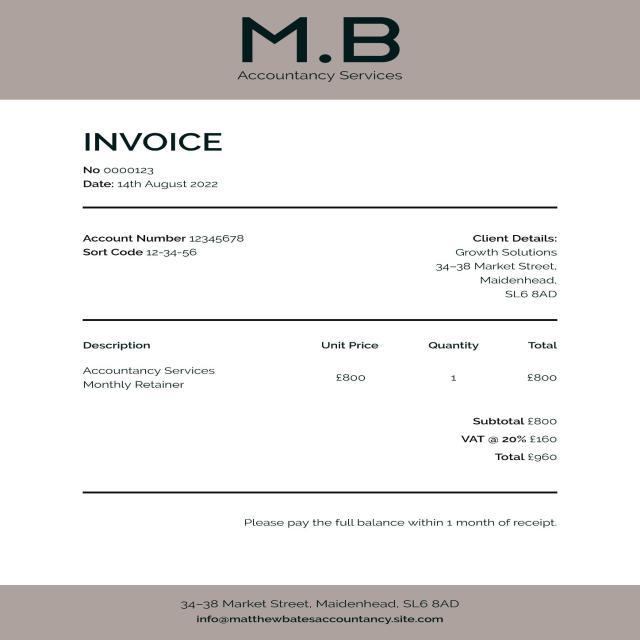ROI: (67, 329, 570, 394), (231, 15, 406, 86), (178, 592, 467, 630), (424, 232, 566, 300), (453, 408, 568, 472), (240, 516, 560, 536), (82, 232, 249, 260), (68, 132, 238, 156), (81, 163, 226, 189)
